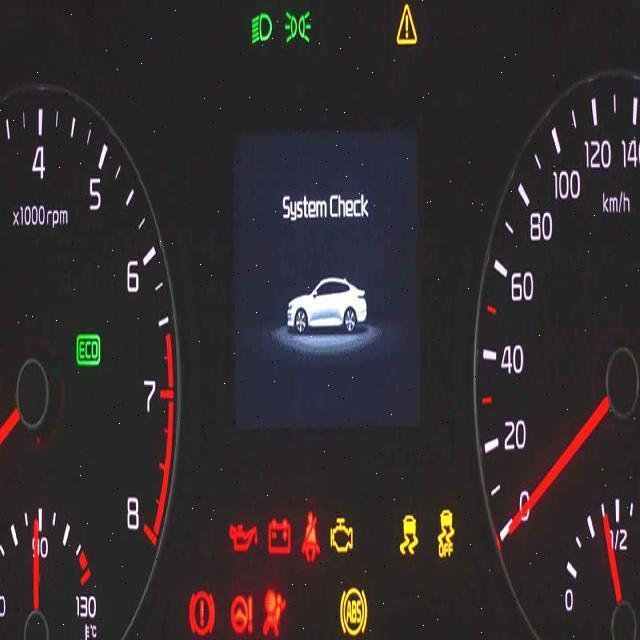Electronic Power Steering Warning: (227, 595, 255, 630)
Seat Belt: (302, 510, 322, 561)
